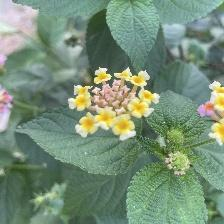common lanthana: (69, 65, 164, 143)
